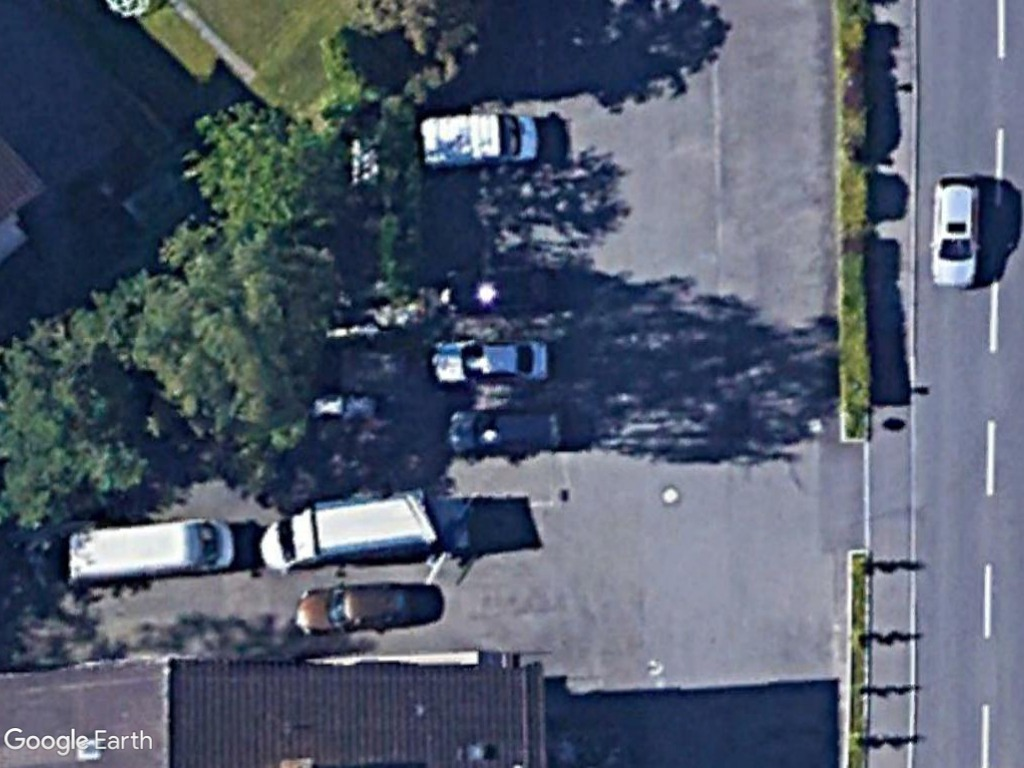car: (297, 581, 420, 637), (930, 165, 983, 293), (429, 336, 551, 386)
van: (255, 489, 433, 573), (62, 515, 237, 587), (417, 109, 542, 171)
